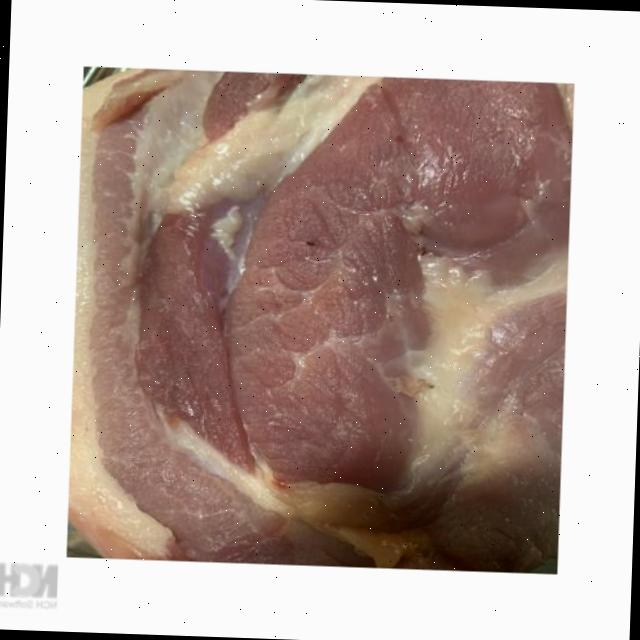rotten meat: (56, 39, 605, 588)
